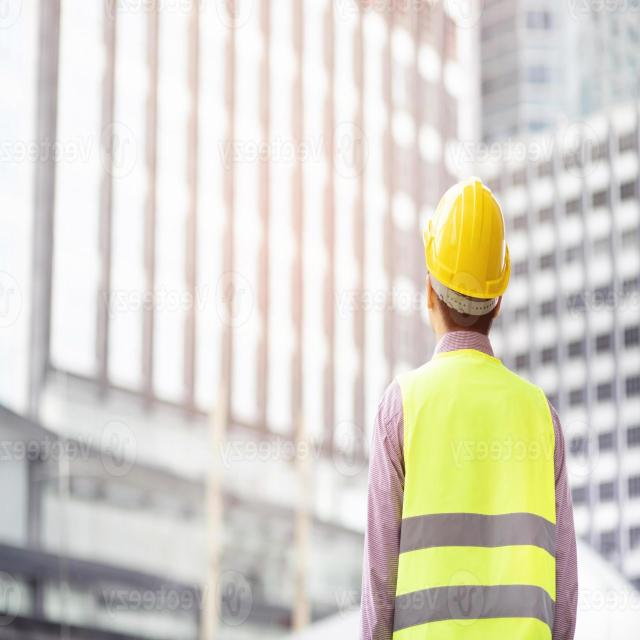Reflective-Jacket: (380, 343, 572, 640)
Safety-Helmet: (423, 172, 515, 306)
